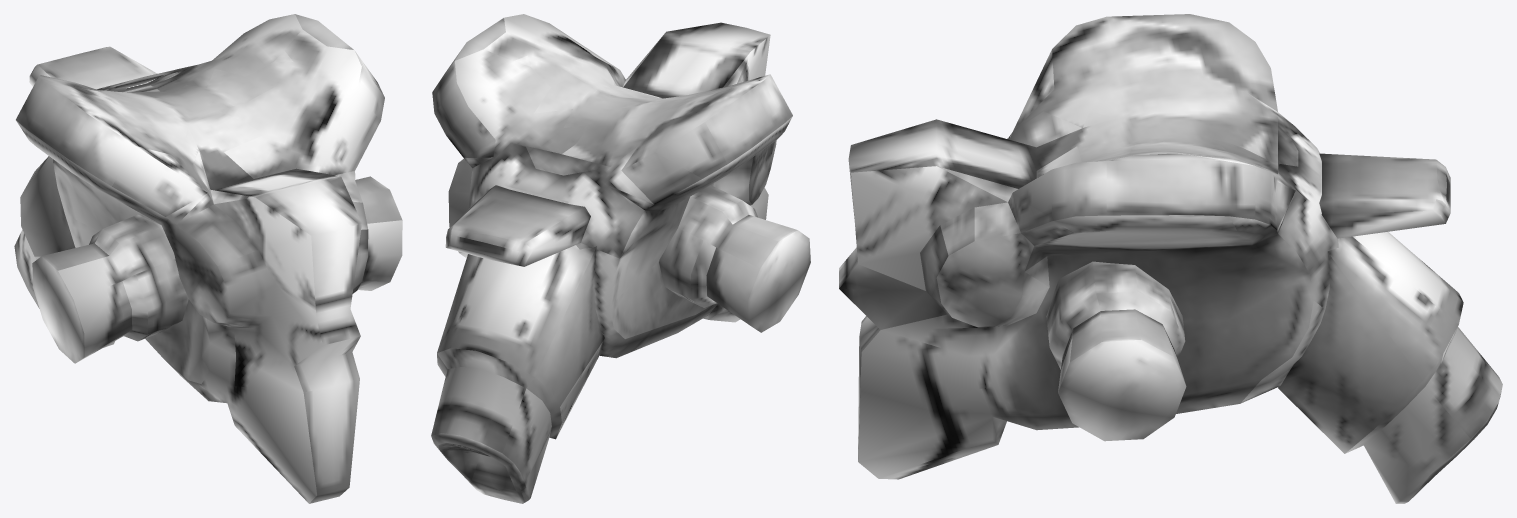
The model's file is pelvis.glb.
3 views of the same model, side by side, from view 1: azimuth 30°, elevation 25°; view 2: azimuth 150°, elevation 25°; view 3: azimuth 270°, elevation 25° (orthographic). The views are drawn at different scales.
Visible parts, largest first — view 1: pelvis; view 2: pelvis; view 3: pelvis.
Boxes of the visible parts, bbox=[...] form: pelvis: bbox=[14, 14, 402, 503]; pelvis: bbox=[431, 14, 810, 503]; pelvis: bbox=[839, 14, 1502, 503].
Size of the model in its own units: 0.6048 by 0.6368 by 0.94.
3 materials, 3 textured.
